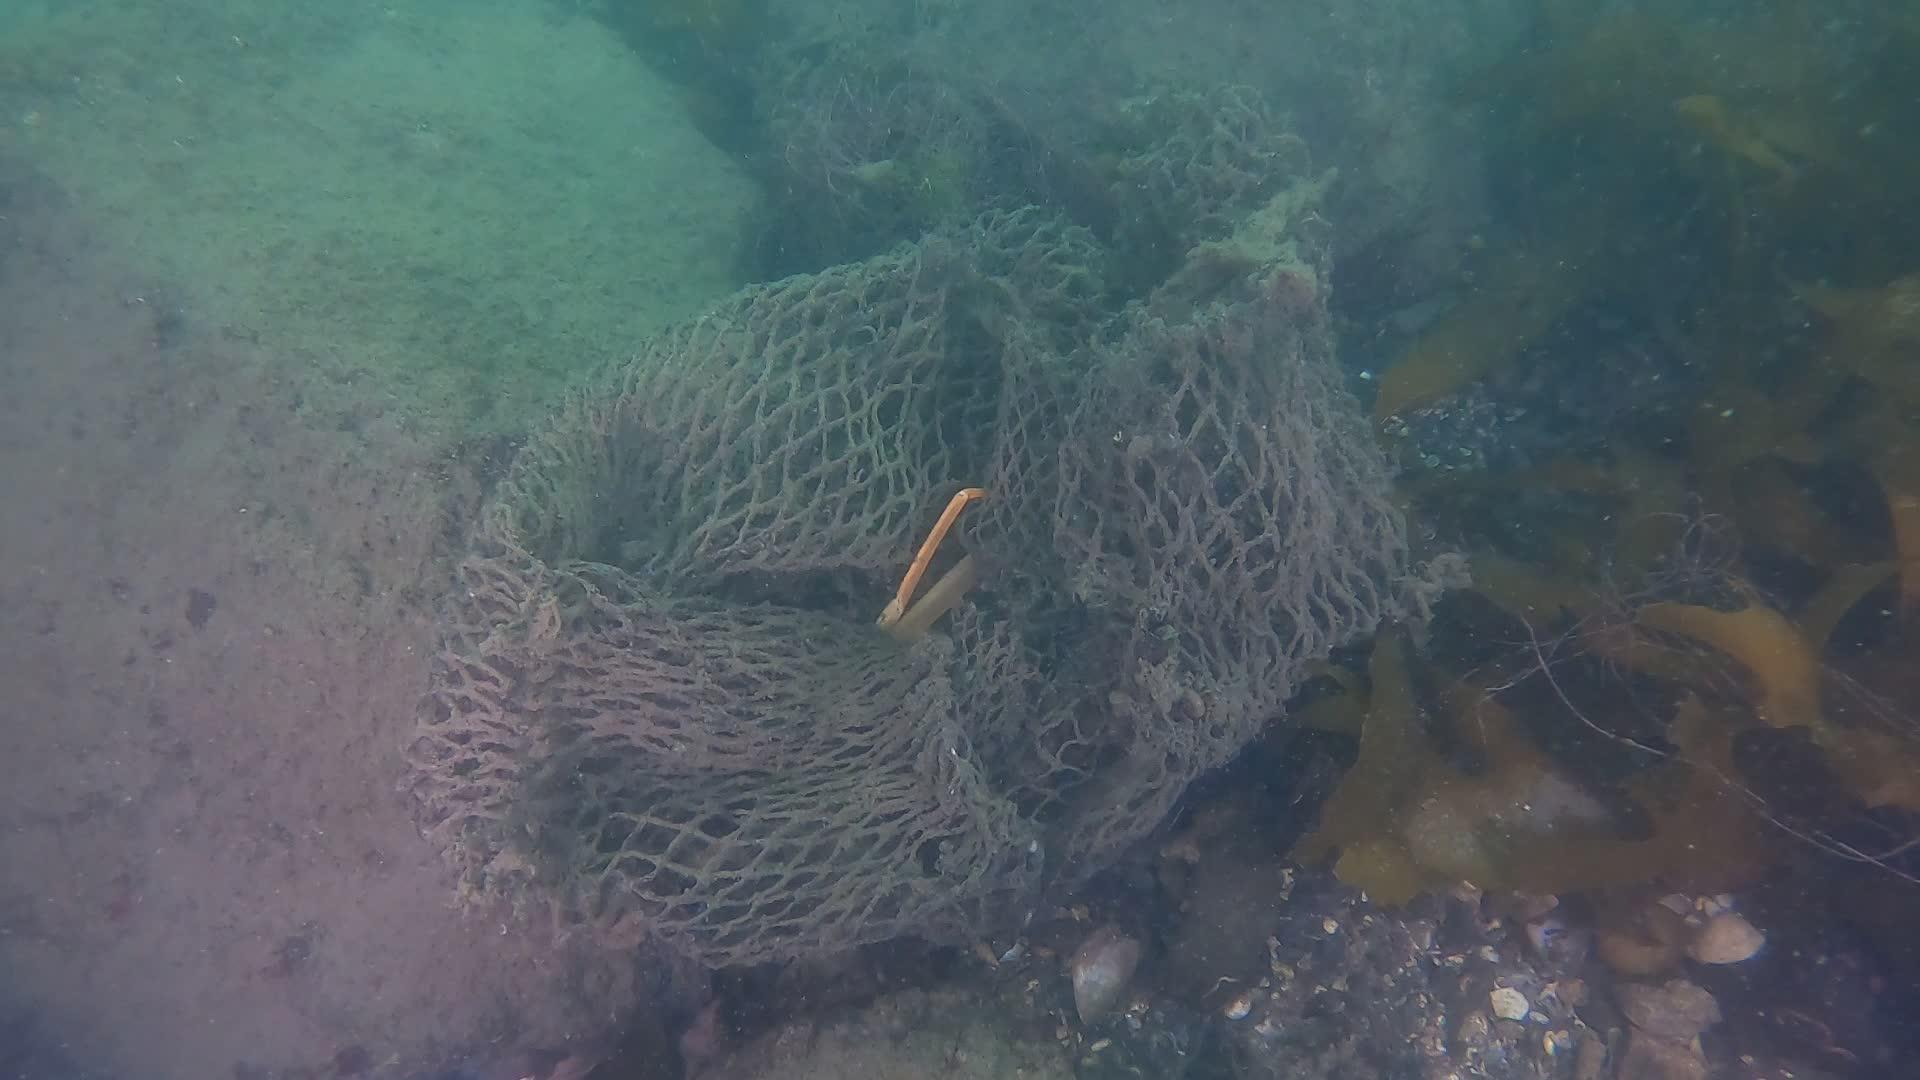fish net: (404, 200, 1389, 959)
